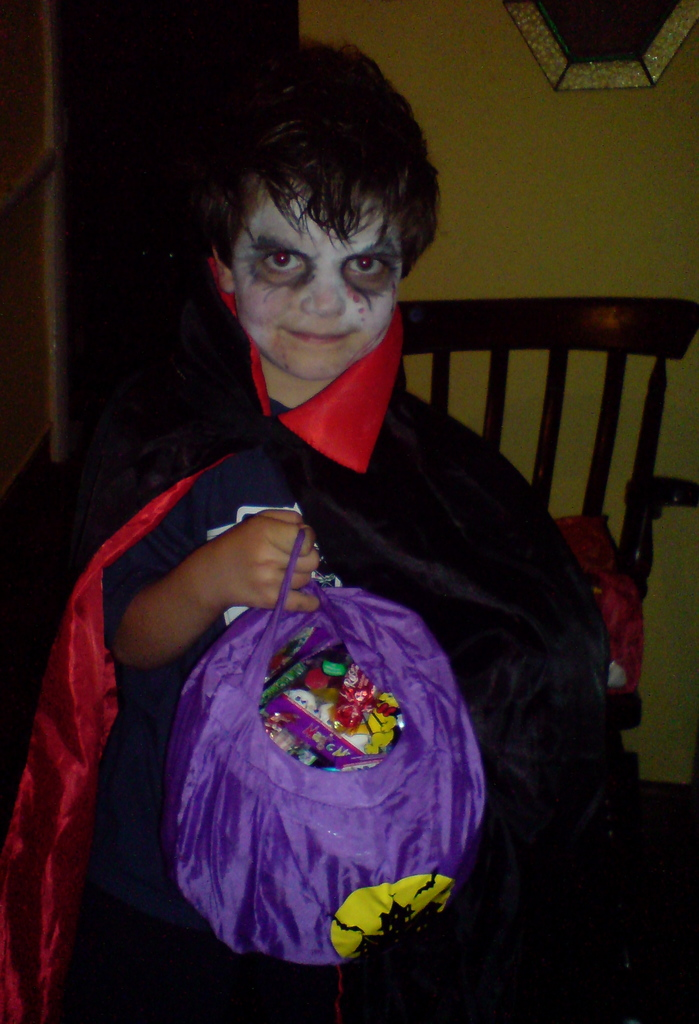Person: (0, 37, 611, 1023)
